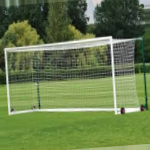goals: (3, 34, 142, 119)
